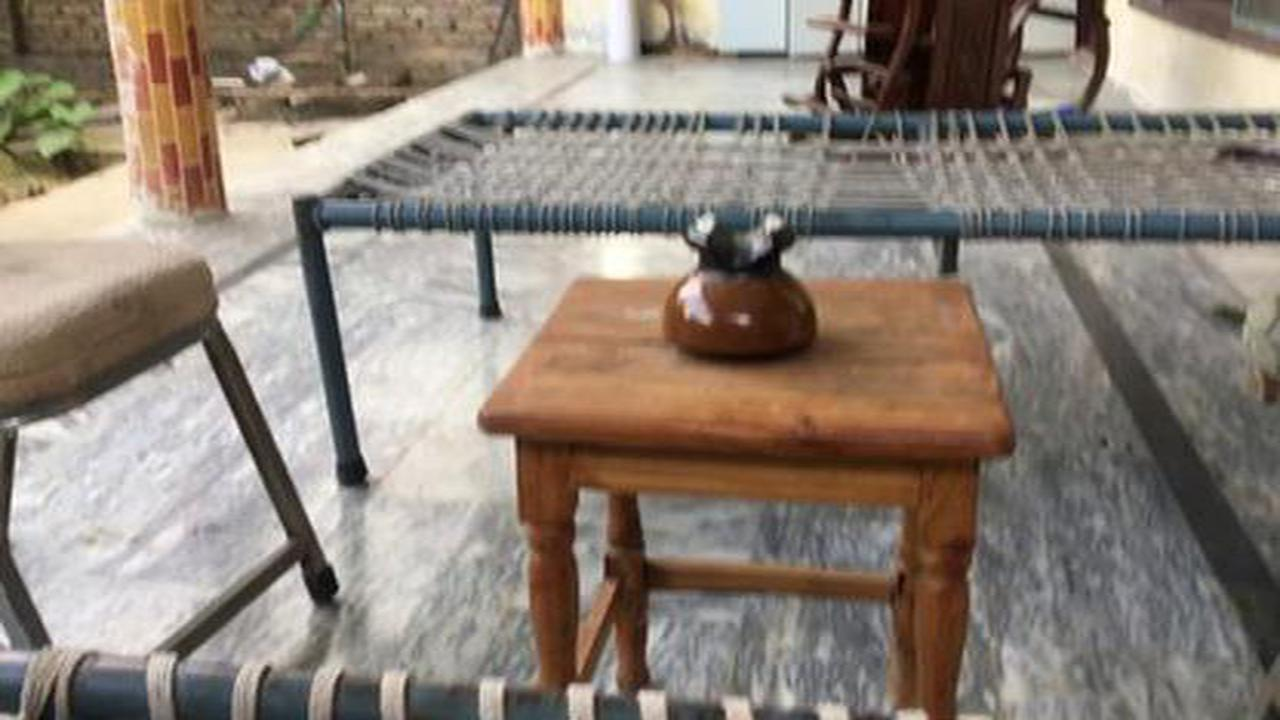insulator_pin: (644, 200, 837, 376)
